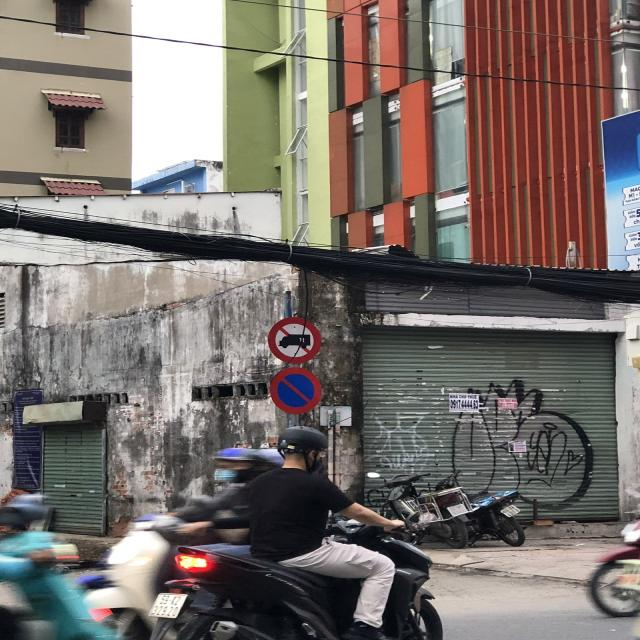Bien bao cam do xe: (266, 364, 325, 414)
Bien bao cam xe oto tai: (263, 311, 329, 366)
